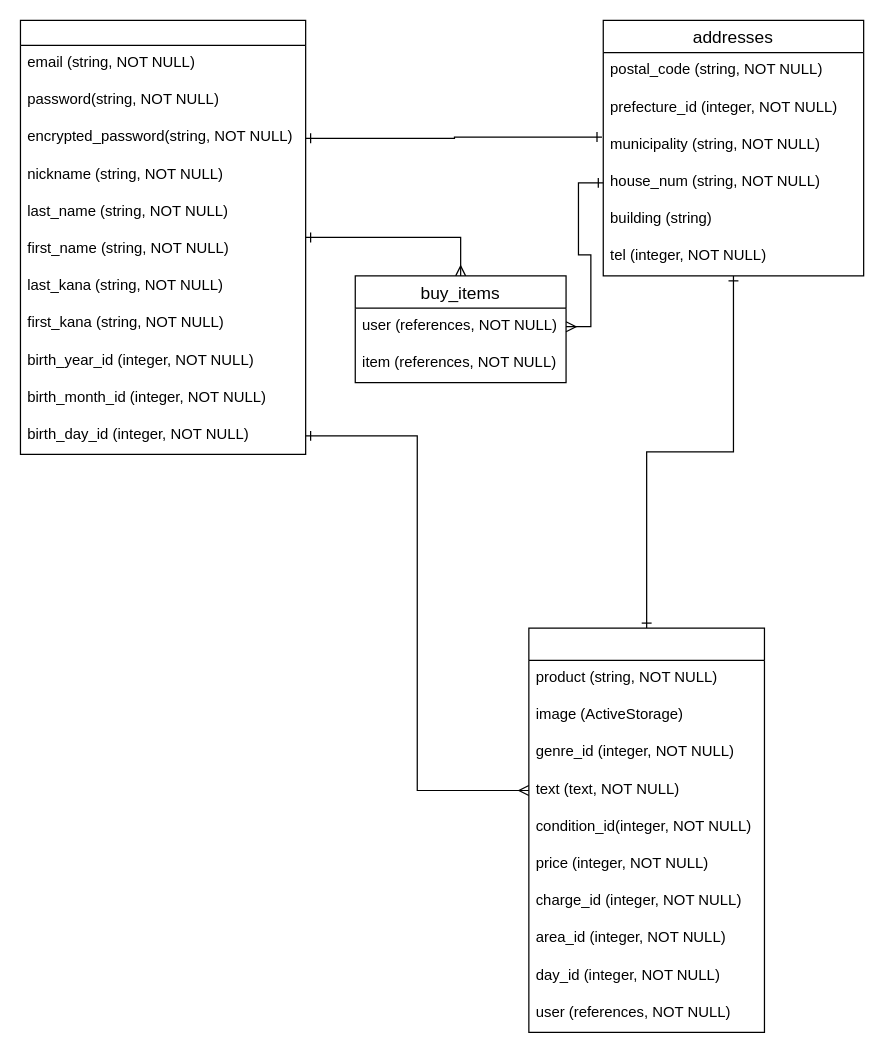
The diagram is 884 pixels wide and 1053 high, and some of its shapes have lost their labels. The box of each missing label's shape, as (x1, y1, x2, y2) in pixels:
items: (528, 627, 764, 1032)
users: (19, 19, 306, 454)
